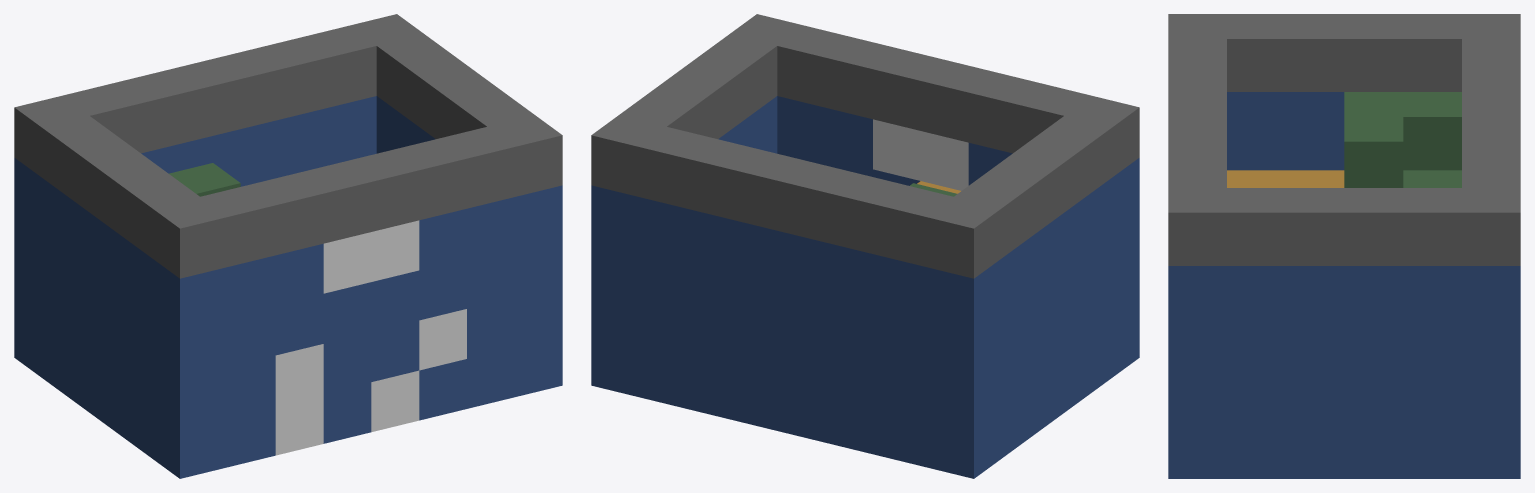
Rendered from RecyclingBin.obj.
3 views of the same model, side by side, from view 1: azimuth 30°, elevation 25°; view 2: azimuth 150°, elevation 25°; view 3: azimuth 270°, elevation 25° (orthographic). The views are drawn at different scales.
Visible parts, largest first — view 1: RecyclingBin; view 2: RecyclingBin; view 3: RecyclingBin.
Part boxes in pixels (box(x1,y1,x2,y2)): RecyclingBin: box(14, 14, 562, 478); RecyclingBin: box(591, 14, 1139, 478); RecyclingBin: box(1168, 14, 1520, 478).
Bounding box in the file's own units: 8 × 5 × 6.
1 material, 1 textured.
